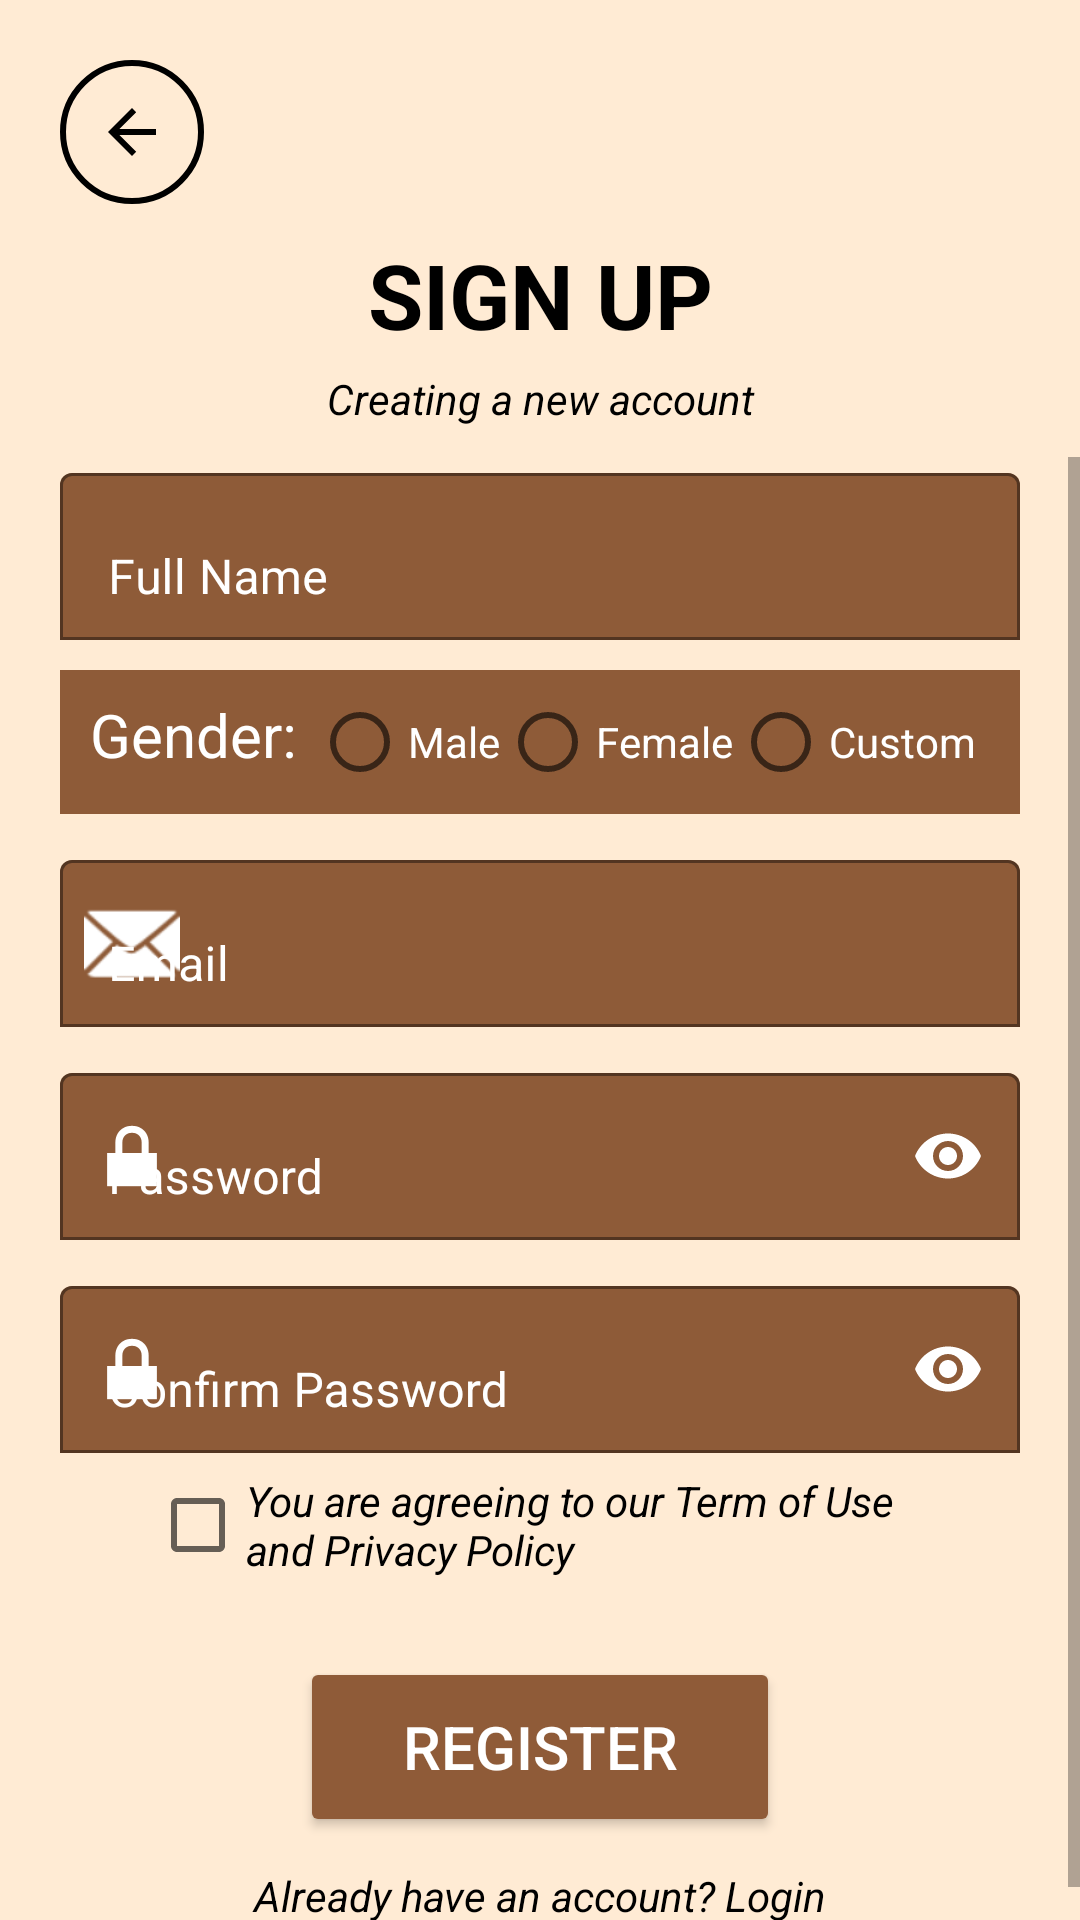

Where to tap for icons on this 1080 × 1920 app screen, as (x,y):
Previous Button: (132,132)
